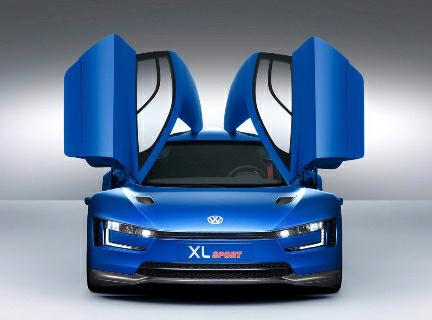大众-XL: (84, 134, 347, 302)
